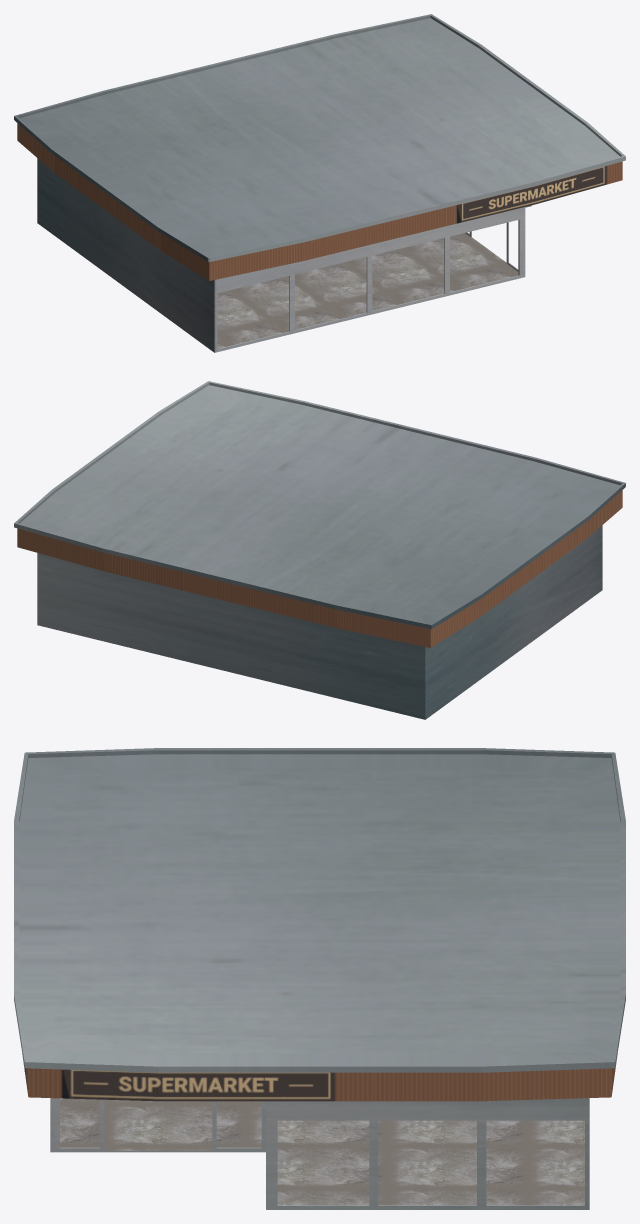
The model's file is SUPERMARKET.fbx.
3 renders of one model, top to bottom at view 1: azimuth 30°, elevation 25°; view 2: azimuth 150°, elevation 25°; view 3: azimuth 270°, elevation 25°, orthographic. The views are drawn at different scales.
Visible parts, largest first — view 1: SUPERMARKET; view 2: SUPERMARKET; view 3: SUPERMARKET.
Boxes of the visible parts, left/top/right/bottom form: SUPERMARKET: left=14, top=14, right=625, bottom=352; SUPERMARKET: left=14, top=381, right=625, bottom=719; SUPERMARKET: left=14, top=748, right=625, bottom=1209.
Size of the model in its own units: 2505 by 582 by 2033.
